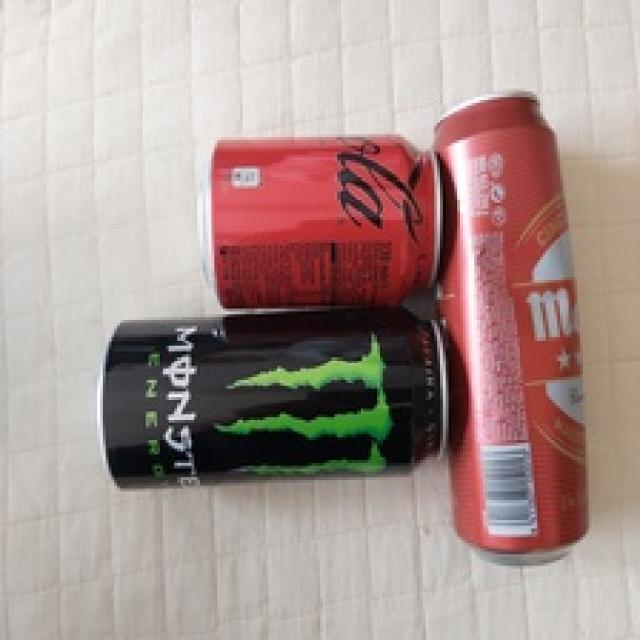recyclable: (434, 88, 589, 566), (100, 307, 453, 490), (207, 124, 446, 314)
